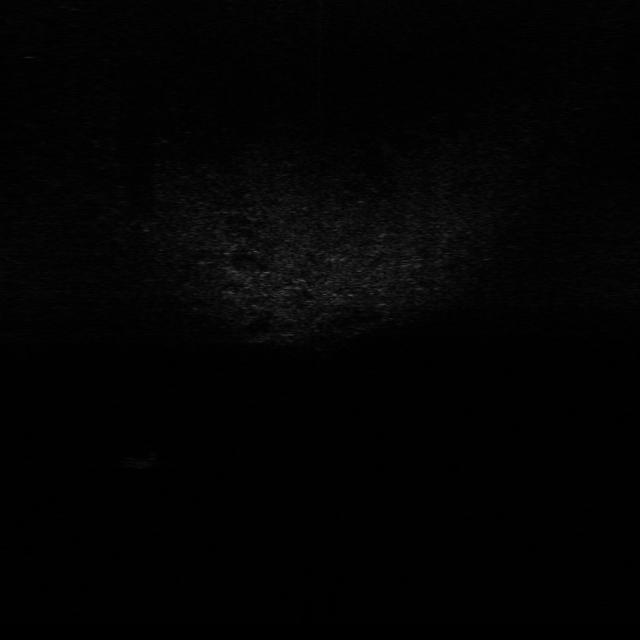cube: (120, 442, 164, 469)
